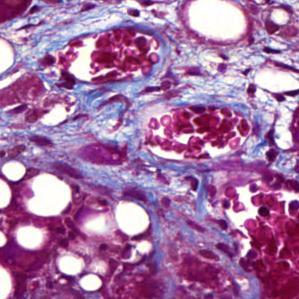steatosis: (78, 272, 102, 294)
